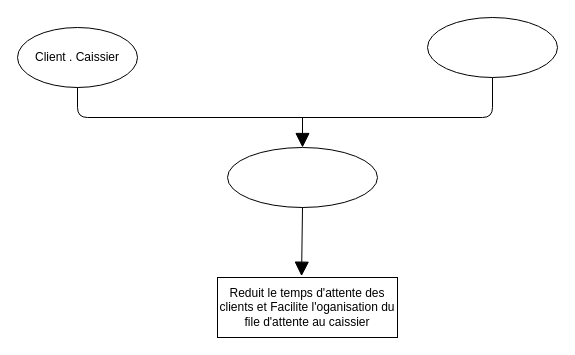
Image size: 575x355. Some labels were removed from this diagram. The shapes that lost their labels are listed below. From the top down, each one's centre as x and y in pixels, then its label:
pixel 492 47: ticket . suivant
pixel 302 177: Gestionnaire file d'attente
